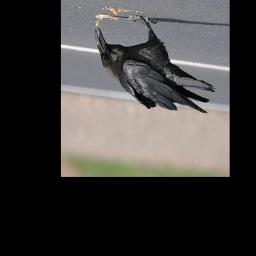Crow: (95, 16, 216, 114)
